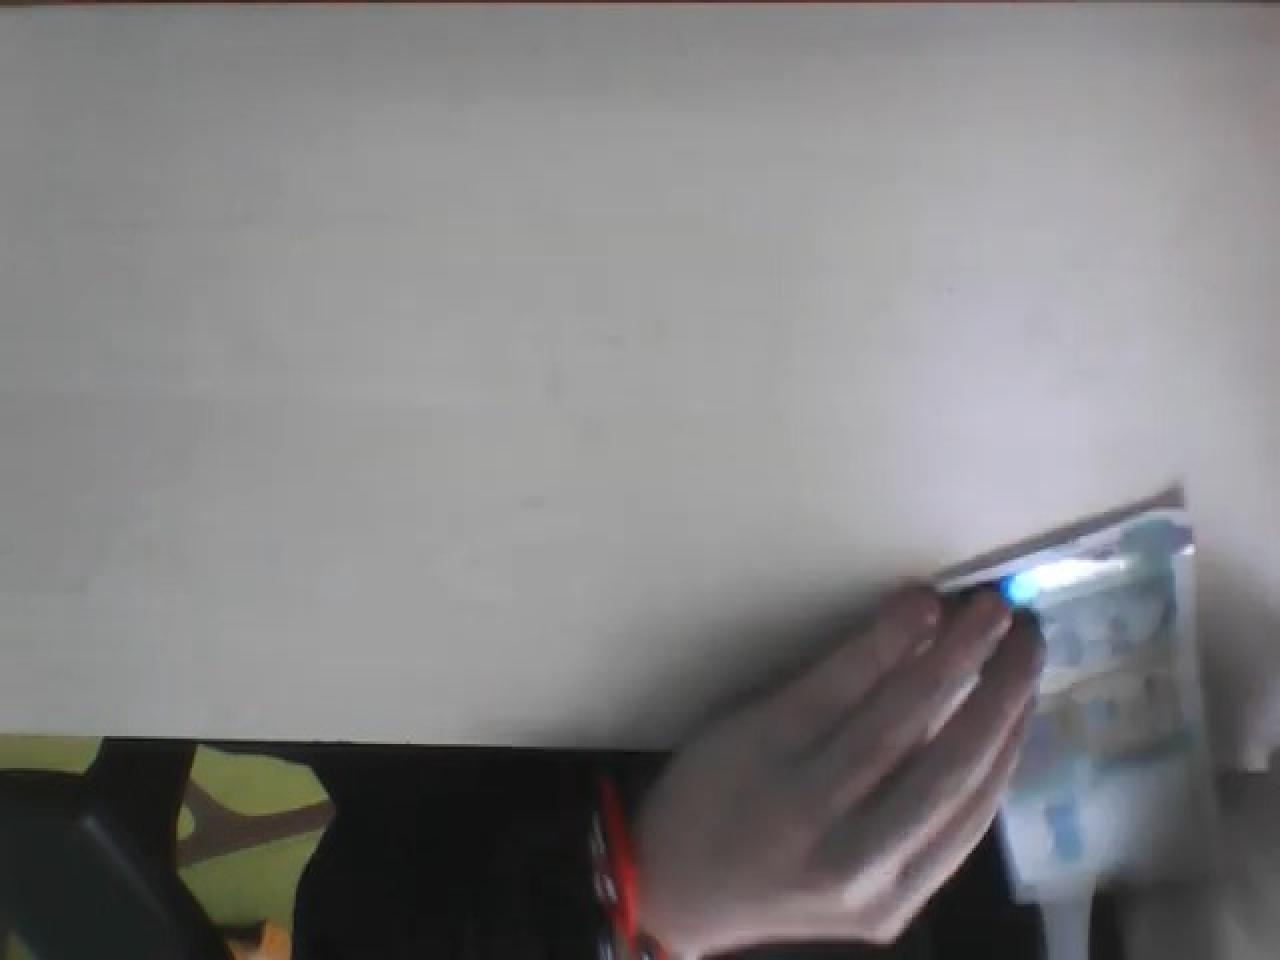100leva: (932, 501, 1222, 902)
